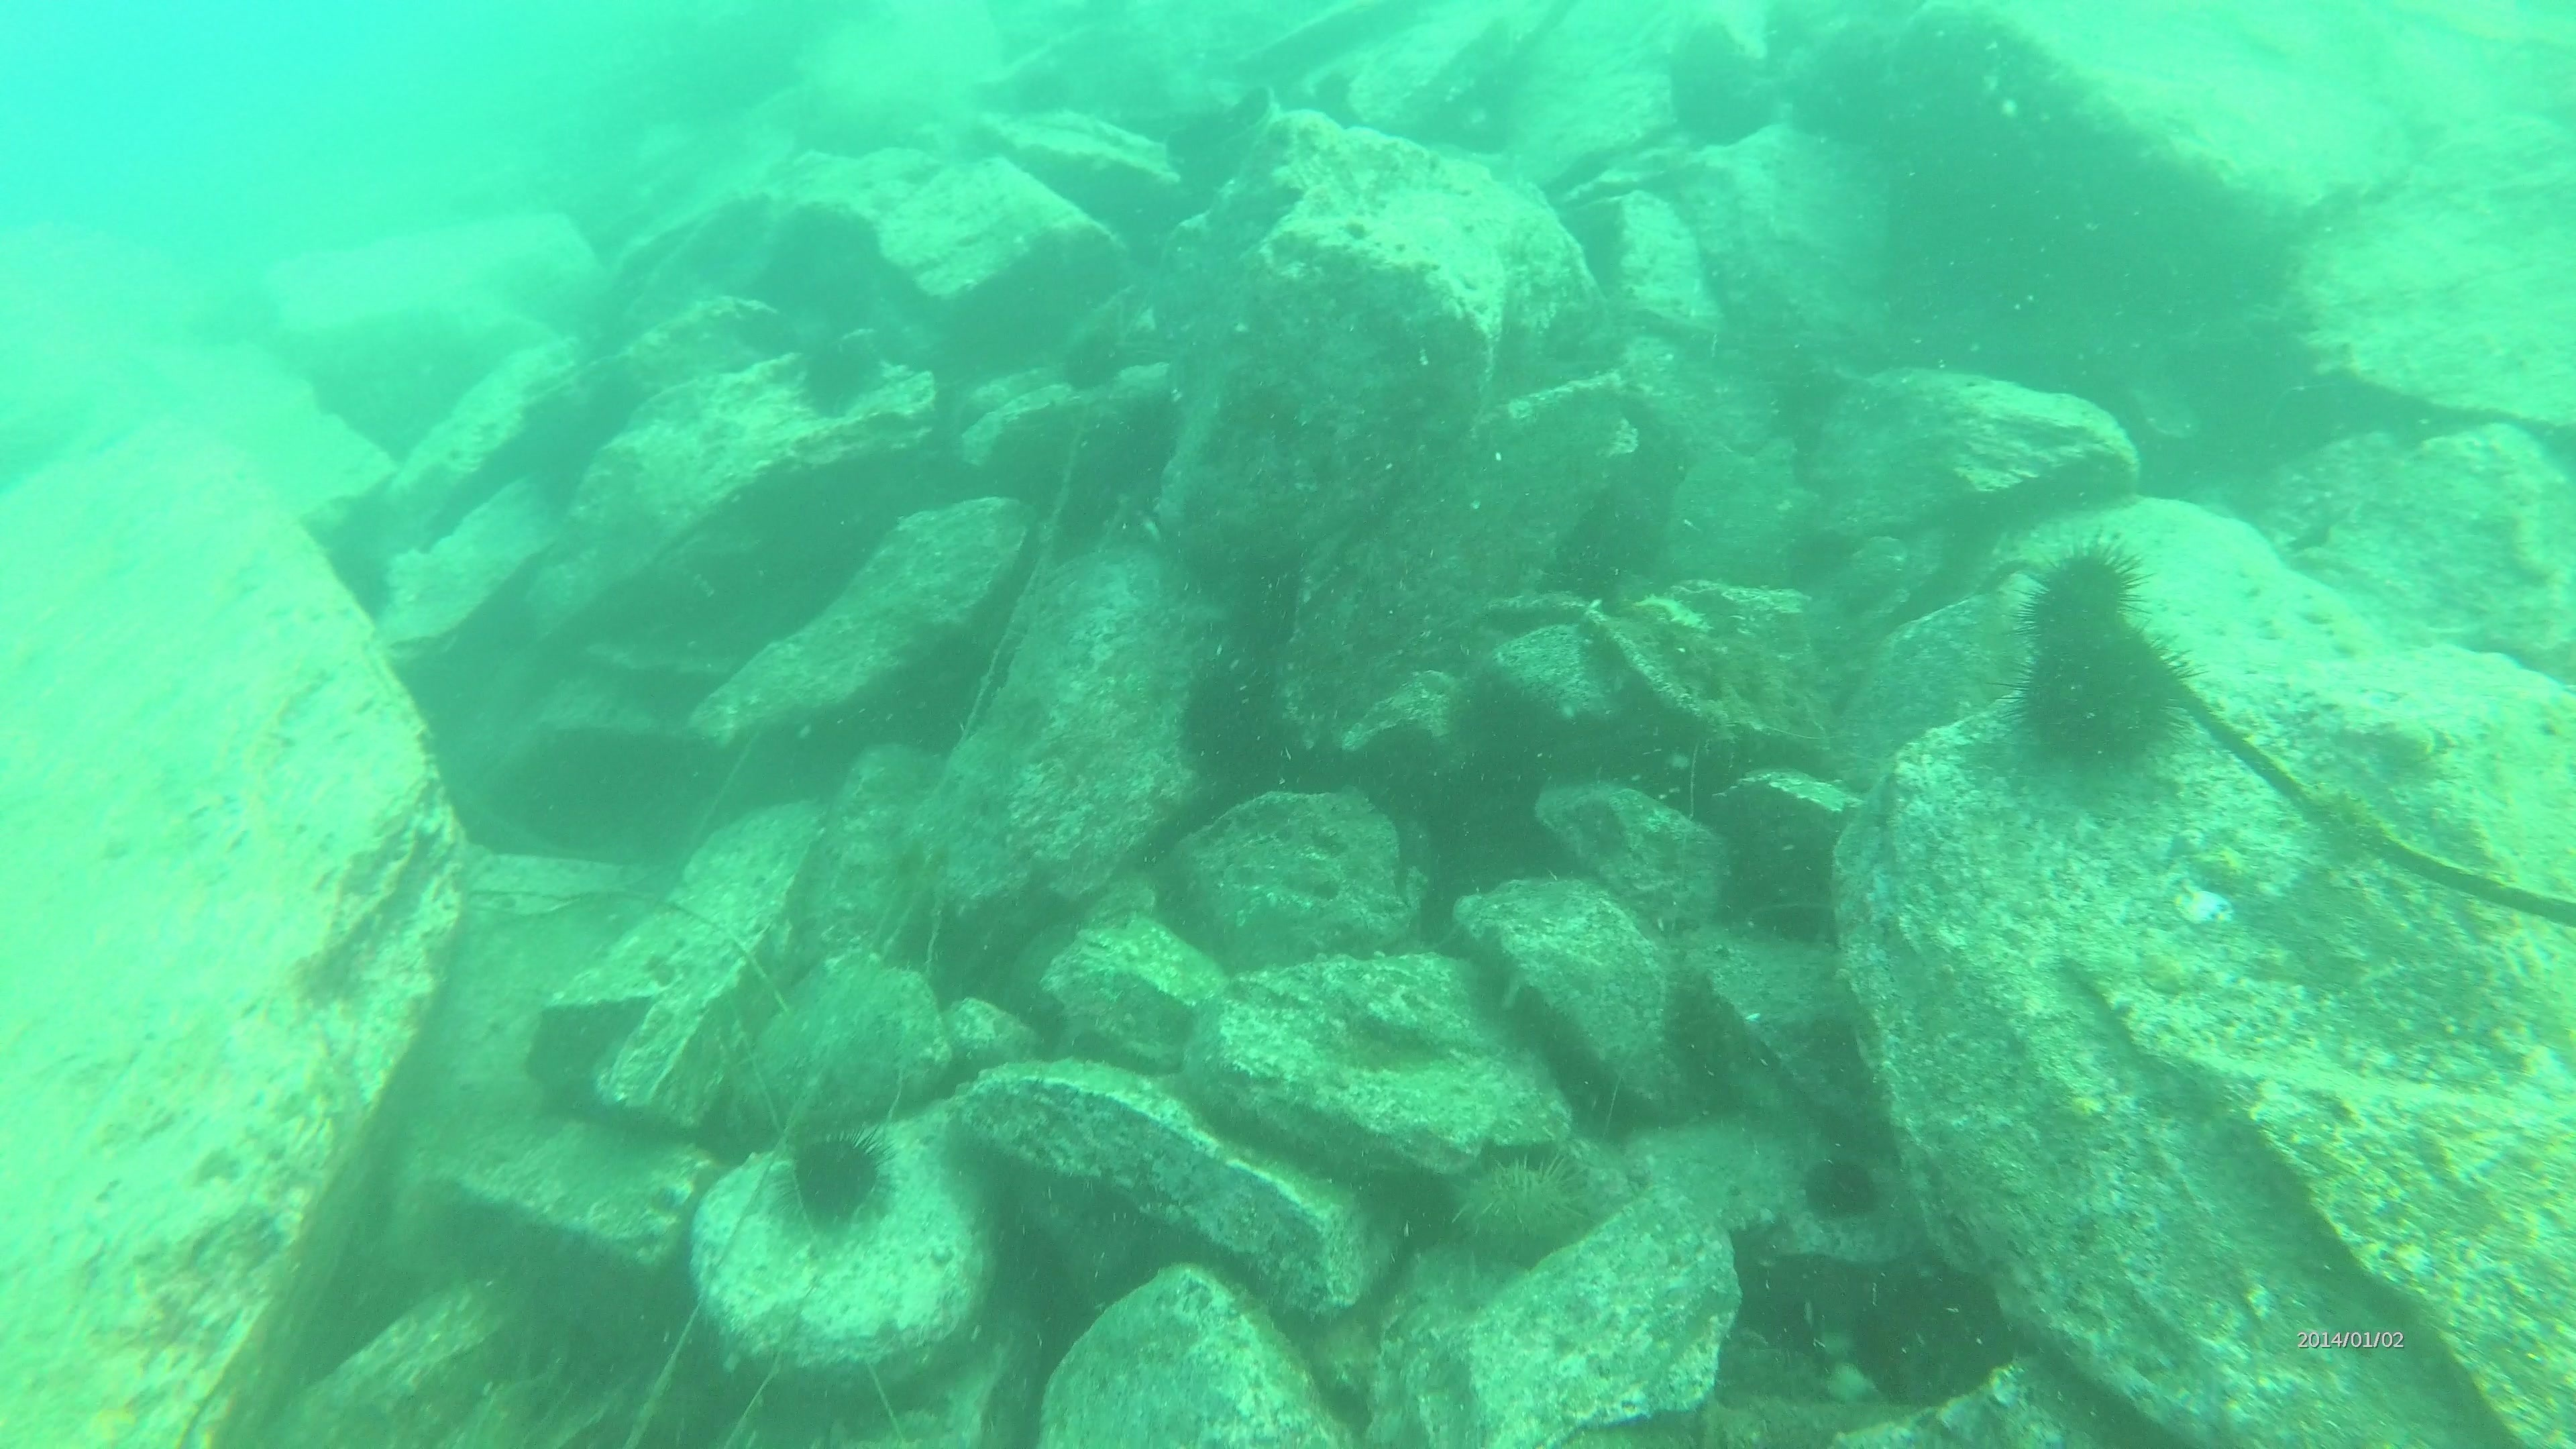echinus: (2012, 625, 2192, 780), (1438, 1139, 1605, 1272), (1169, 653, 1290, 793), (2017, 534, 2151, 655), (773, 1120, 895, 1235), (782, 322, 892, 421), (1794, 1143, 1890, 1230)
